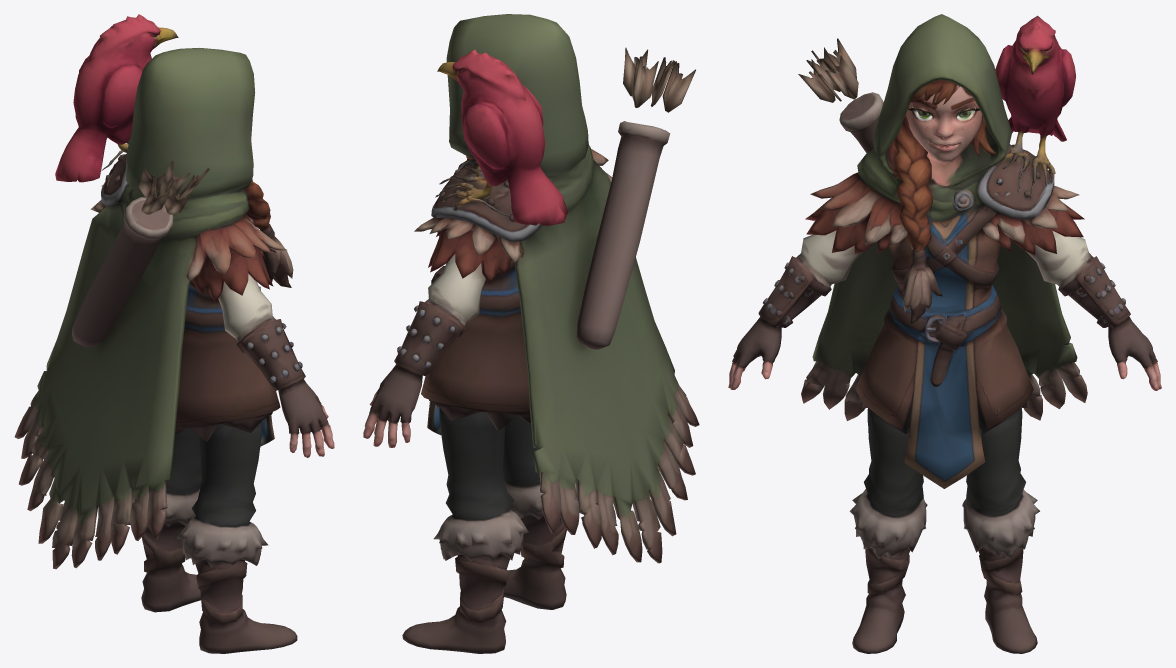
File: marksman_tripo.glb
3 renders of one model, left to right at view 1: azimuth 30°, elevation 25°; view 2: azimuth 150°, elevation 25°; view 3: azimuth 270°, elevation 25°, orthographic. The views are drawn at different scales.
Parts seen in each view (by area): view 1: tripo_node_caefb0f8-2a91-4b17-ac39-cf3c3ef313db; view 2: tripo_node_caefb0f8-2a91-4b17-ac39-cf3c3ef313db; view 3: tripo_node_caefb0f8-2a91-4b17-ac39-cf3c3ef313db.
Part boxes in pixels (<box>): tripo_node_caefb0f8-2a91-4b17-ac39-cf3c3ef313db: <box>14,14,334,653</box>; tripo_node_caefb0f8-2a91-4b17-ac39-cf3c3ef313db: <box>363,14,699,653</box>; tripo_node_caefb0f8-2a91-4b17-ac39-cf3c3ef313db: <box>728,14,1161,653</box>.
Size of the model in its own units: 0.4004 by 0.998 by 0.6621.
1 material, 1 textured.
